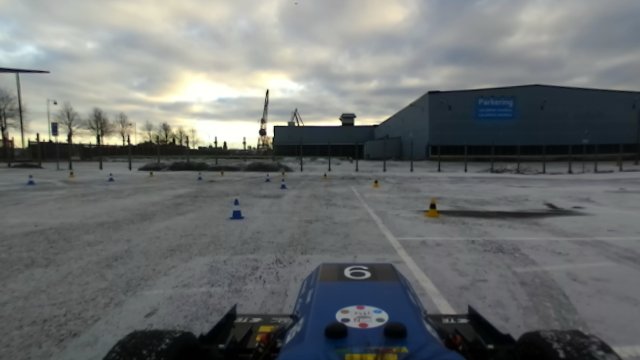blue: (228, 198, 245, 222)
yellow: (425, 197, 440, 218)
